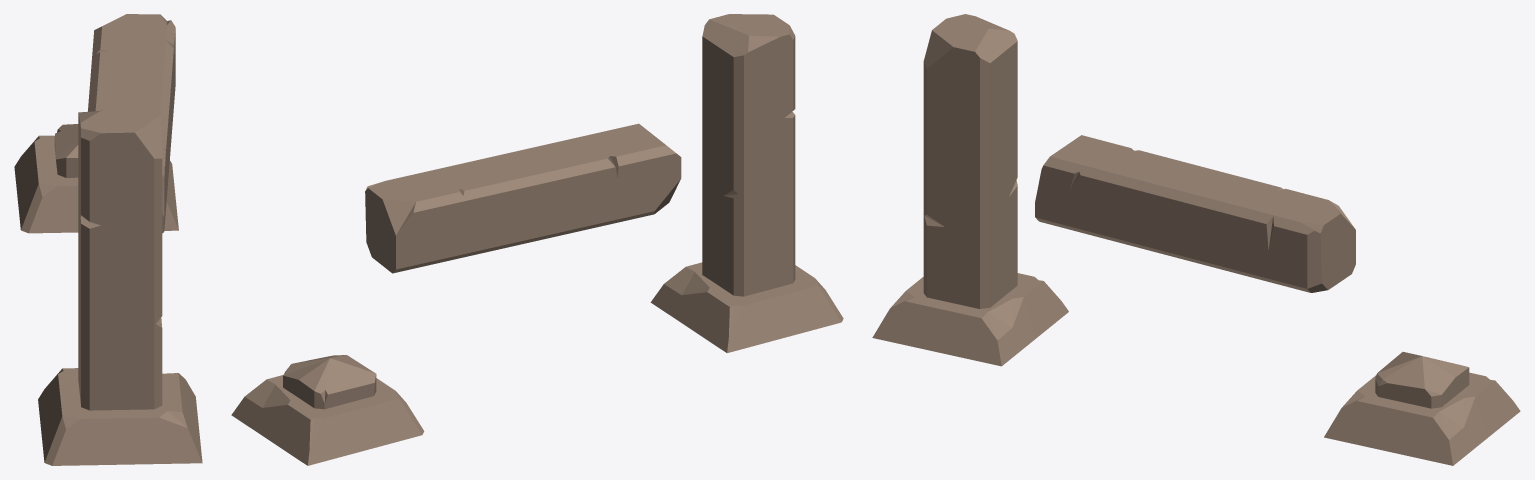
The model's file is Column.fbx.
The picture shows the model from 3 angles, left to right: view 1: azimuth 30°, elevation 25°; view 2: azimuth 150°, elevation 25°; view 3: azimuth 270°, elevation 25°; orthographic projection. The views are drawn at different scales.
Visible parts, largest first — view 1: 平面.057, 平面.060, 平面.061; view 2: 平面.057, 平面.060, 平面.061; view 3: 平面.057, 平面.060, 平面.061.
Boxes of the visible parts, x1,y1,x2,y2 form: 平面.057: (38,104,202,465); 平面.060: (88,14,175,233); 平面.061: (14,124,178,233); 平面.057: (650,14,843,353); 平面.060: (365,123,681,273); 平面.061: (231,355,424,465); 平面.057: (872,14,1068,366); 平面.060: (1035,135,1355,292); 平面.061: (1324,352,1520,465).
Size of the model in its own units: 564 by 852 by 423.
